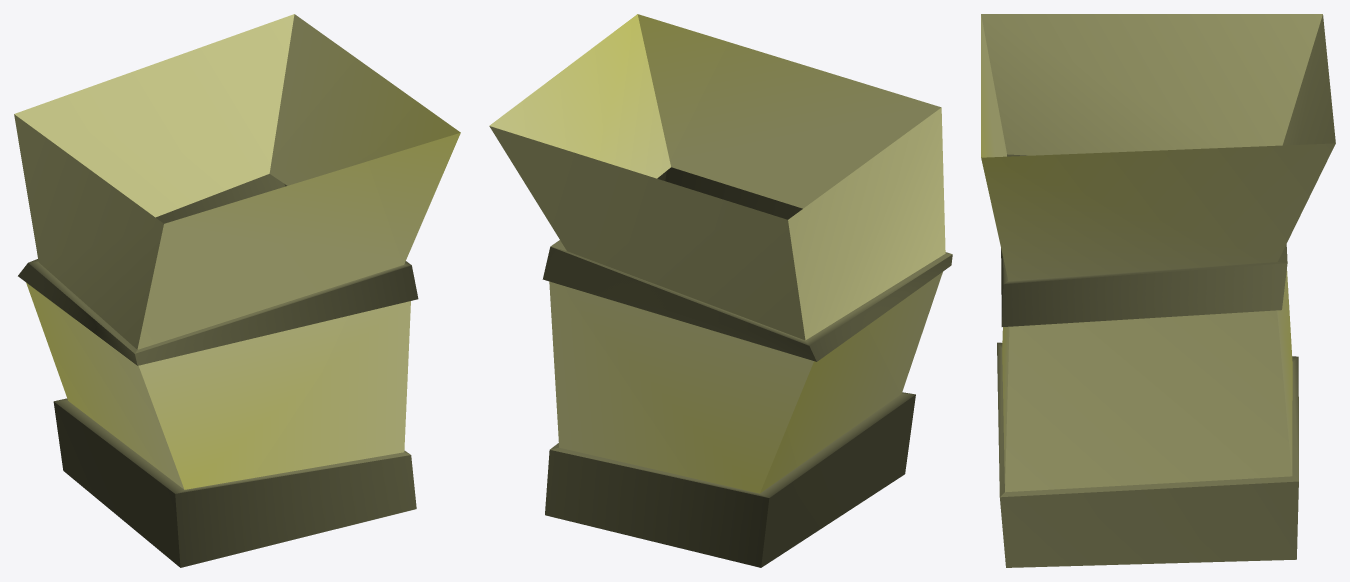
Rendered from c_tower_body_square_aa.fbx.
The picture shows the model from 3 angles, left to right: view 1: azimuth 30°, elevation 25°; view 2: azimuth 150°, elevation 25°; view 3: azimuth 270°, elevation 25°; orthographic projection. The views are drawn at different scales.
Parts seen in each view (by area): view 1: c_tower_body_square_aa; view 2: c_tower_body_square_aa; view 3: c_tower_body_square_aa.
Part boxes in pixels (x1,y1,x2,y2): c_tower_body_square_aa: (14,14,460,567); c_tower_body_square_aa: (489,14,952,567); c_tower_body_square_aa: (981,14,1335,567).
Size of the model in its own units: 6.45 by 7.46 by 5.49.
